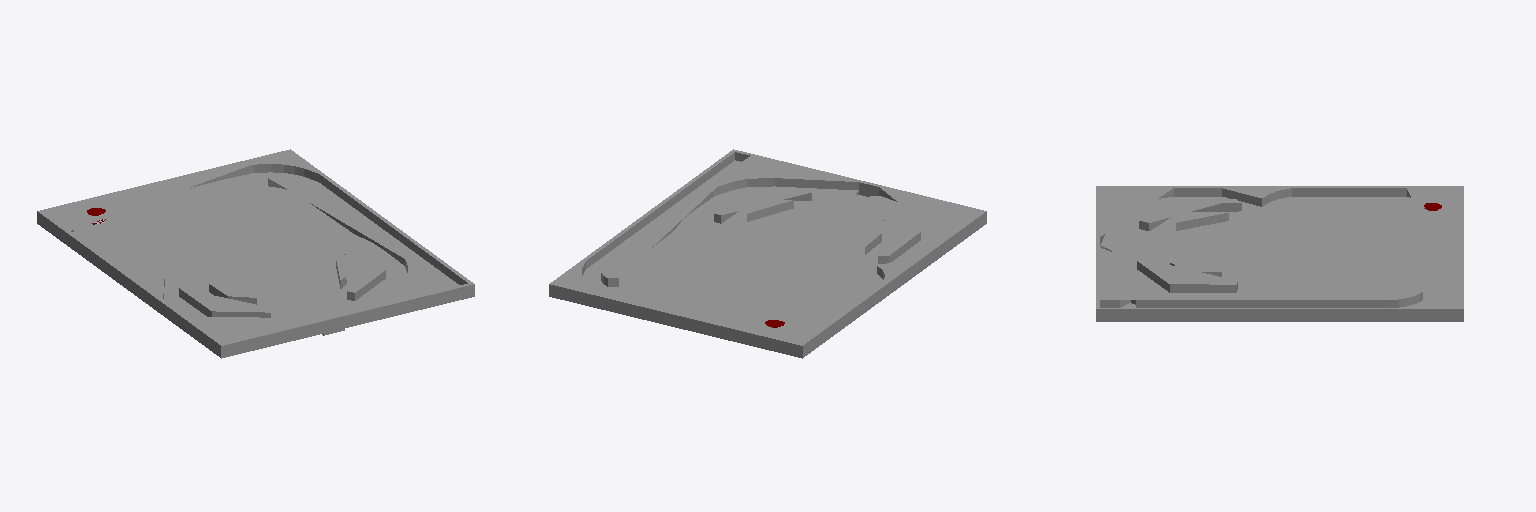
3 renders of one model, left to right at view 1: azimuth 30°, elevation 25°; view 2: azimuth 150°, elevation 25°; view 3: azimuth 270°, elevation 25°, orthographic.
Parts seen in each view (by area): view 1: Cube; view 2: Cube; view 3: Cube.
Part boxes in pixels (bbox=[...]): Cube: bbox=[37, 149, 474, 358]; Cube: bbox=[549, 149, 986, 358]; Cube: bbox=[1096, 186, 1463, 321].
Bounding box in the file's own units: 49.91 × 3.26 × 62.86.
Materials: 3 (1 with a texture image).